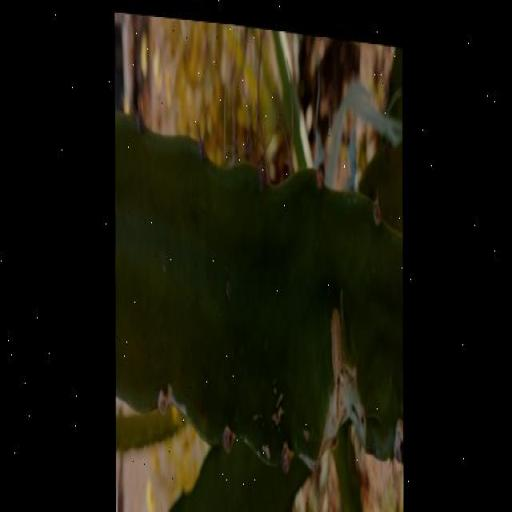stemcanker: (239, 190, 260, 213)
